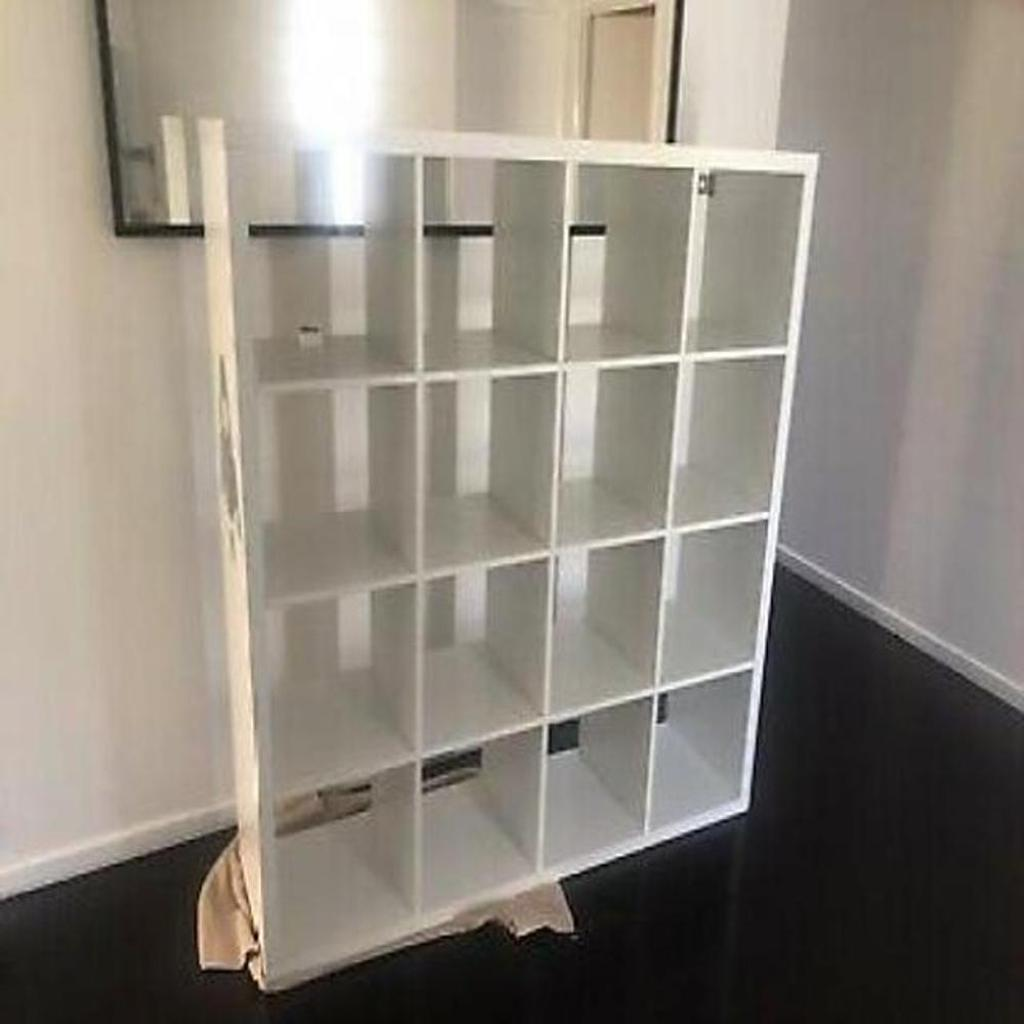lamp: (199, 114, 823, 988)
